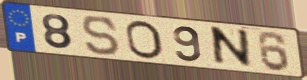6: (256, 30, 291, 73)
8: (40, 13, 75, 50)
9: (172, 25, 203, 63)
N: (211, 25, 254, 70)
O: (123, 19, 166, 61)
S: (80, 15, 123, 57)
